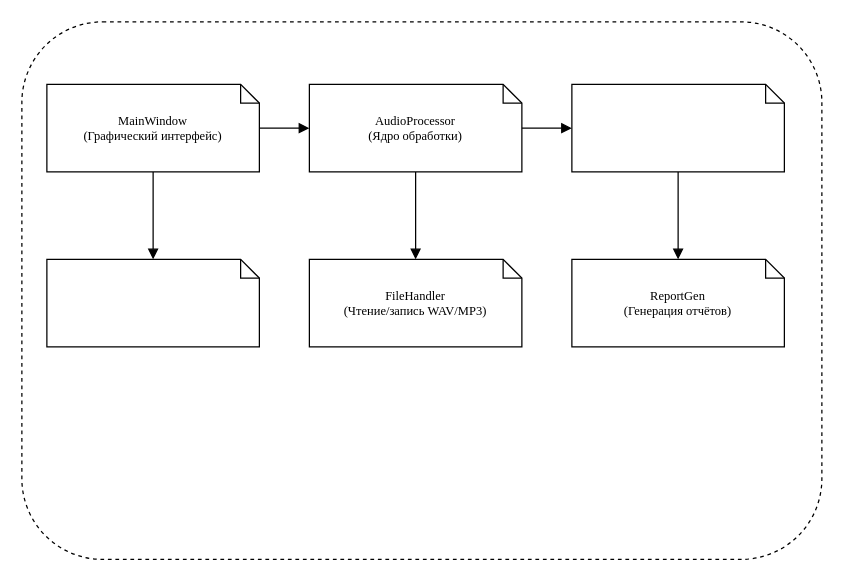
Image size: 844x581. Some labels were removed from this diagram. The shapes that lost their labels are listed below. From the top down, each one's centre as x and y in pixels, then its label:
At (x=677, y=127): "MetricEngine (Вычисление метрик)".
At (x=152, y=302): "TransformPlugin (FFT, FWHT, DCT, DWT...)".
